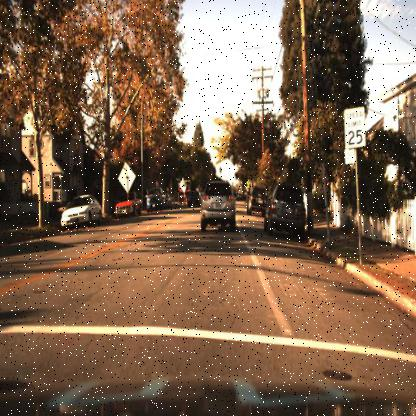car: (264, 183, 307, 234), (58, 190, 104, 234), (199, 188, 237, 241), (60, 194, 104, 226), (108, 192, 142, 223), (246, 184, 268, 218), (114, 191, 138, 219), (182, 186, 203, 217), (247, 186, 268, 217), (146, 181, 164, 215), (186, 189, 202, 210)
